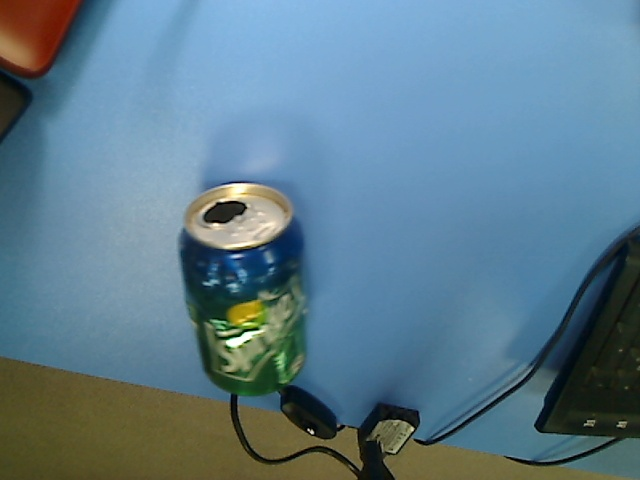can: (175, 180, 312, 401)
